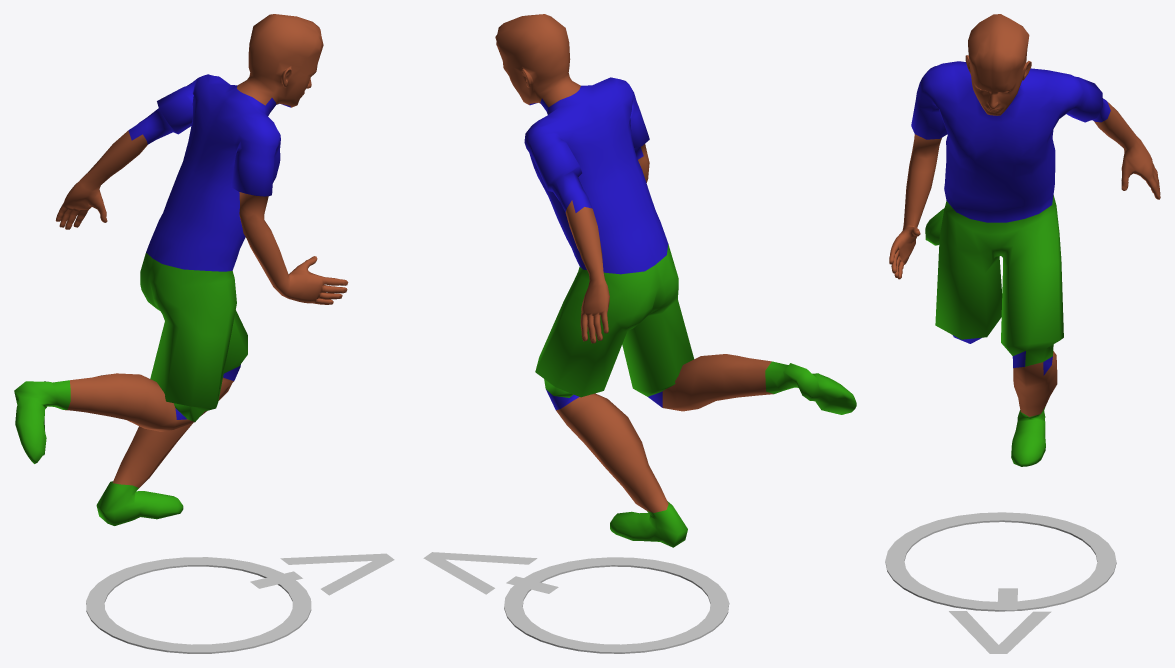
Rendered from playerAI_000011.obj.
3 renders of one model, left to right at view 1: azimuth 30°, elevation 25°; view 2: azimuth 150°, elevation 25°; view 3: azimuth 270°, elevation 25°, orthographic. The views are drawn at different scales.
Parts seen in each view (by area): view 1: soccerplayer.003_mesh.002, Circle.001, Text_Mesh; view 2: soccerplayer.003_mesh.002, Circle.001, Text_Mesh; view 3: soccerplayer.003_mesh.002, Circle.001, Text_Mesh.
Part boxes in pixels (<box>): soccerplayer.003_mesh.002: <box>14,14,348,525</box>; Circle.001: <box>86,557,311,653</box>; Text_Mesh: <box>250,553,394,595</box>; soccerplayer.003_mesh.002: <box>495,14,856,547</box>; Circle.001: <box>504,557,729,653</box>; Text_Mesh: <box>423,552,558,594</box>; soccerplayer.003_mesh.002: <box>889,14,1160,466</box>; Circle.001: <box>885,512,1116,611</box>; Text_Mesh: <box>949,588,1051,653</box>.
Size of the model in its own units: 2.21 by 3.04 by 1.29.
